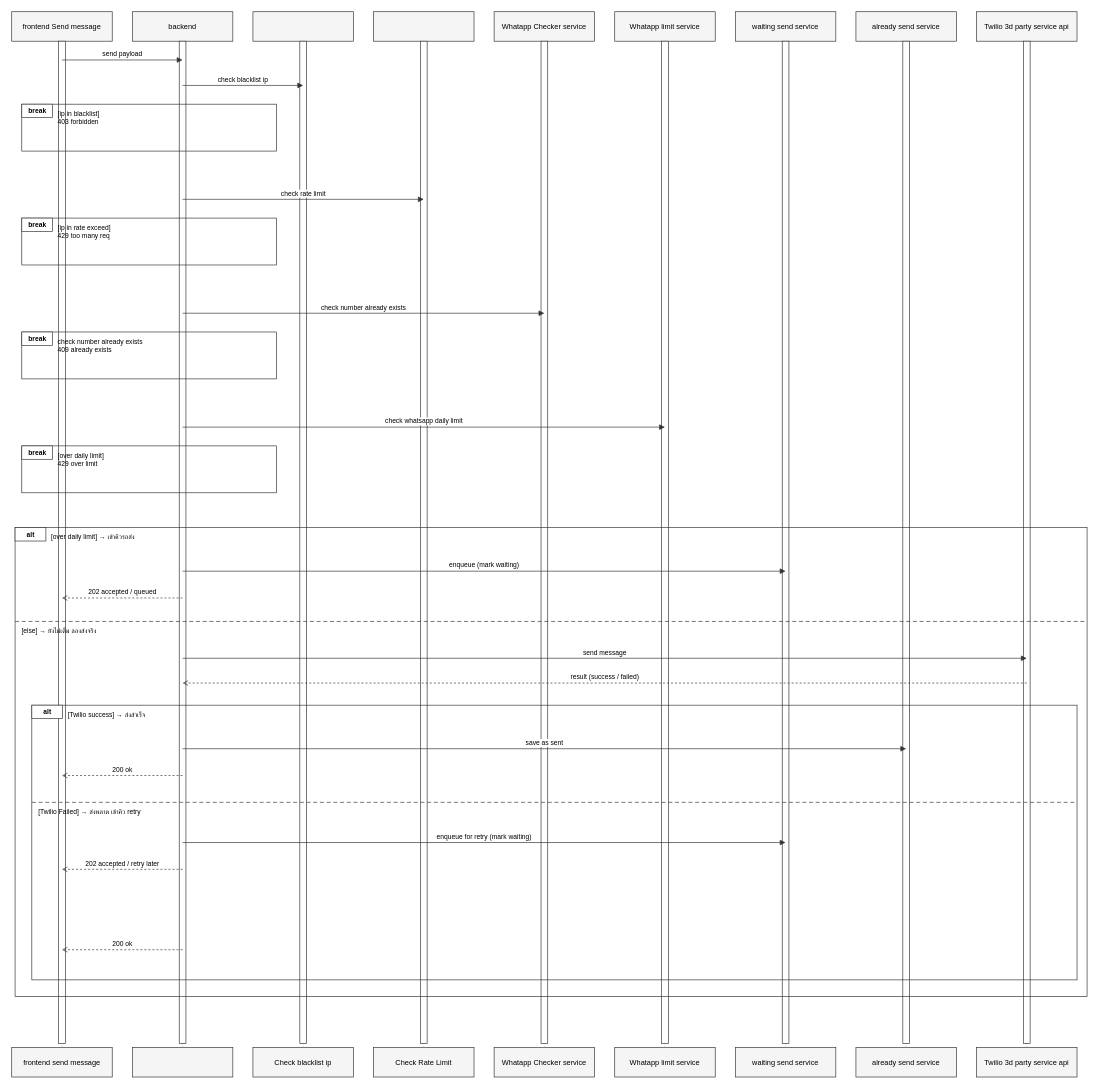
The diagram is 1099 pixels wide and 1089 high, and some of its shapes have lost their labels. Each missing label, with the centre of its shape:
blacklist service: point (302, 26)
Rate limit service: point (423, 26)
send to backend: point (182, 1062)
